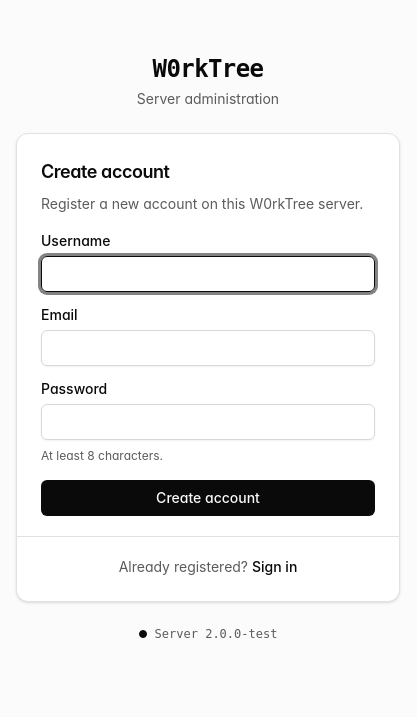
Test: login flow › explains when registration is disabled
The image size is (417, 717).
Step 1. Type "carol" into the field labelled "Username" → coordinates (208, 274), box x1=41 y1=256 x2=375 y2=292
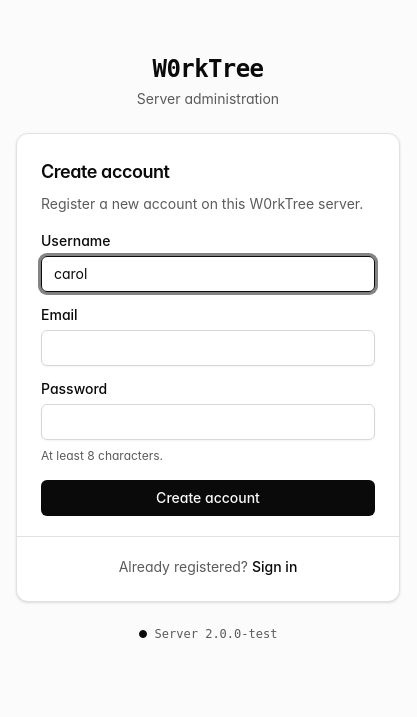
Step 2. Type "carol@example.com" into the field labelled "Email" → coordinates (208, 348), box x1=41 y1=330 x2=375 y2=366
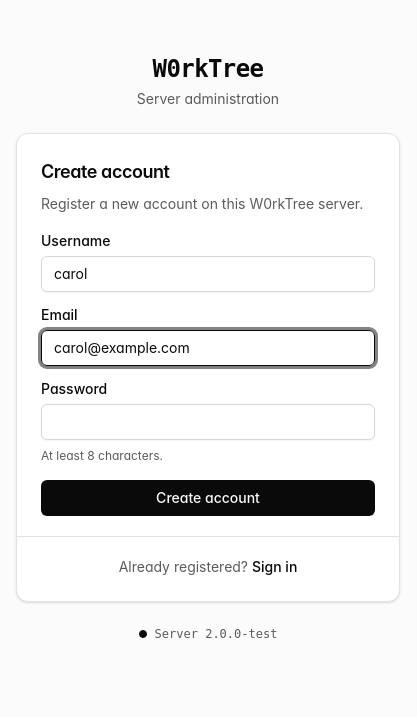
Step 3. Type "long-enough" into the password field labelled "Password" → coordinates (208, 422), box x1=41 y1=404 x2=375 y2=440
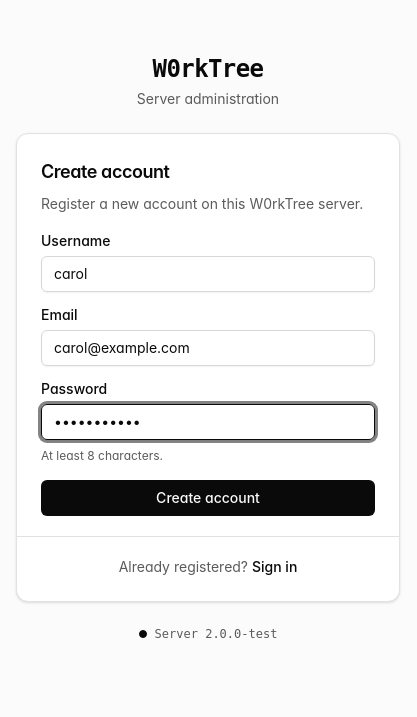
Step 4. Click the button "Create account" → coordinates (208, 498), box x1=41 y1=480 x2=375 y2=516
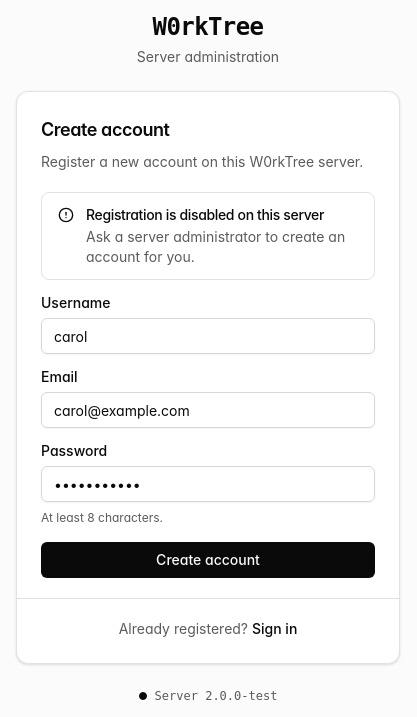
Now the message that starts with "Registration is disabled on this server" is shown, box x1=86 y1=206 x2=324 y2=223
